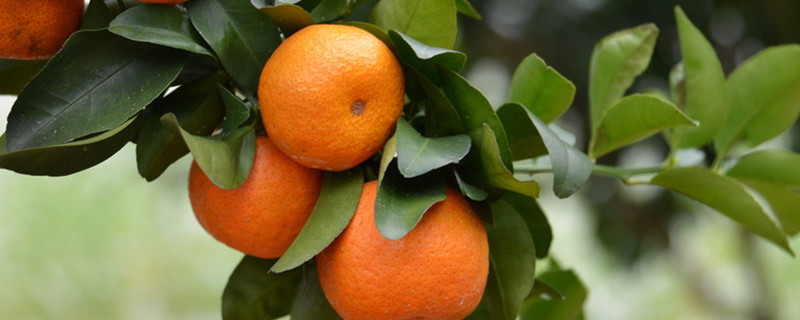orange: (319, 174, 489, 320), (257, 21, 402, 168), (186, 127, 325, 262), (1, 1, 85, 59)
